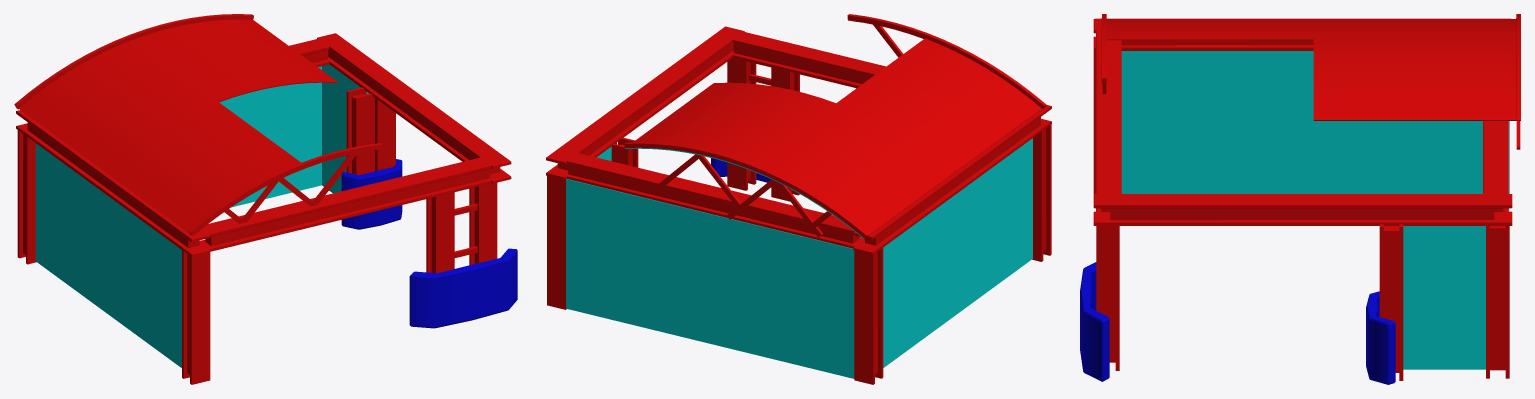
Rendered from CourtyardBuilding.fbx.
The picture shows the model from 3 angles, left to right: view 1: azimuth 30°, elevation 25°; view 2: azimuth 150°, elevation 25°; view 3: azimuth 270°, elevation 25°; orthographic projection. The views are drawn at different scales.
Visible parts, largest first — view 1: CourtyardBuilding2_polySurface1; view 2: CourtyardBuilding2_polySurface1; view 3: CourtyardBuilding2_polySurface1.
Boxes of the visible parts, x1,y1,x2,y2 form: CourtyardBuilding2_polySurface1: (14,14,517,384); CourtyardBuilding2_polySurface1: (546,14,1051,384); CourtyardBuilding2_polySurface1: (1080,14,1520,384).
Size of the model in its own units: 6.74 by 3.72 by 6.46.
